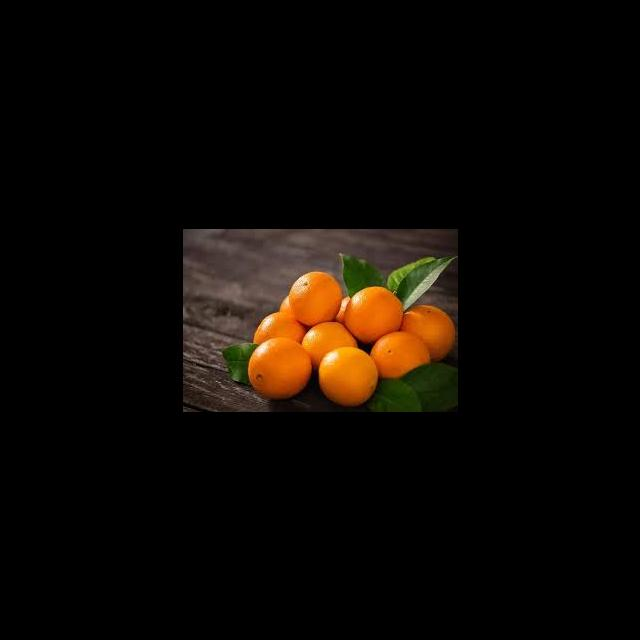orange: (237, 339, 318, 395), (343, 284, 411, 349), (359, 327, 437, 381), (247, 307, 319, 363), (401, 298, 458, 366), (293, 315, 361, 369), (288, 264, 347, 325), (318, 347, 377, 405), (329, 278, 385, 337), (270, 286, 331, 339)
